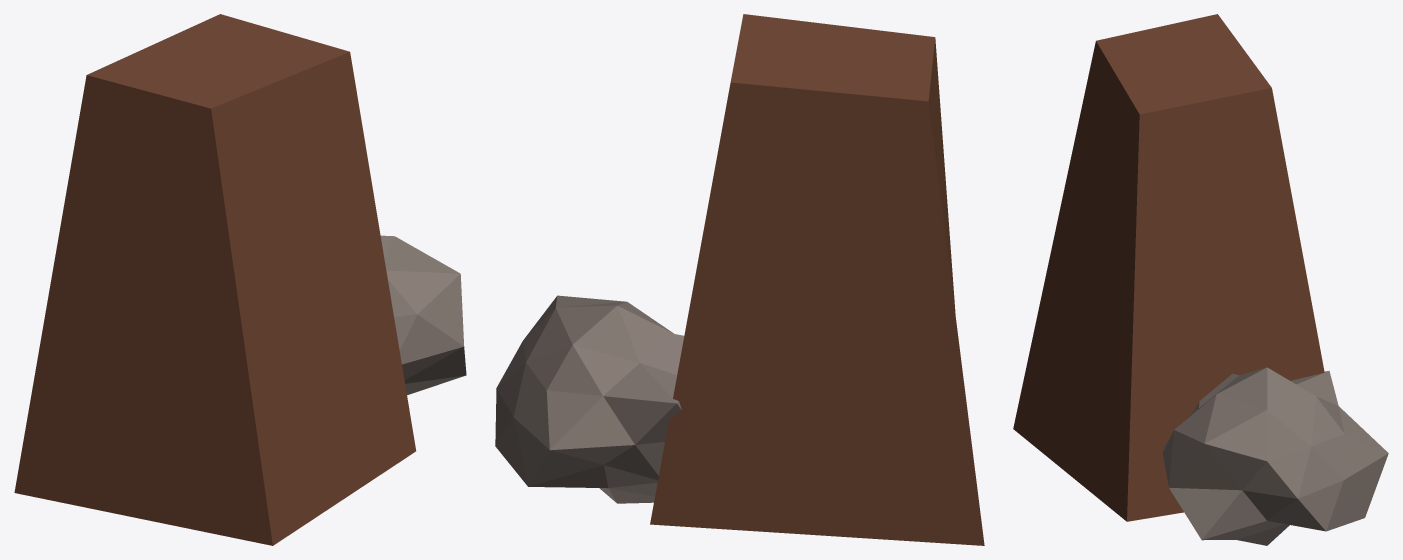
The model's file is rock_b.fbx.
3 views of the same model, side by side, from view 1: azimuth 30°, elevation 25°; view 2: azimuth 150°, elevation 25°; view 3: azimuth 270°, elevation 25° (orthographic). The views are drawn at different scales.
Parts seen in each view (by area): view 1: rock_b; view 2: rock_b; view 3: rock_b.
Boxes of the visible parts, x1=… form: rock_b: x1=14, y1=14, x2=466, y2=545; rock_b: x1=495, y1=14, x2=984, y2=545; rock_b: x1=1013, y1=14, x2=1388, y2=545.
Size of the model in its own units: 1.62 by 1.54 by 1.29.
